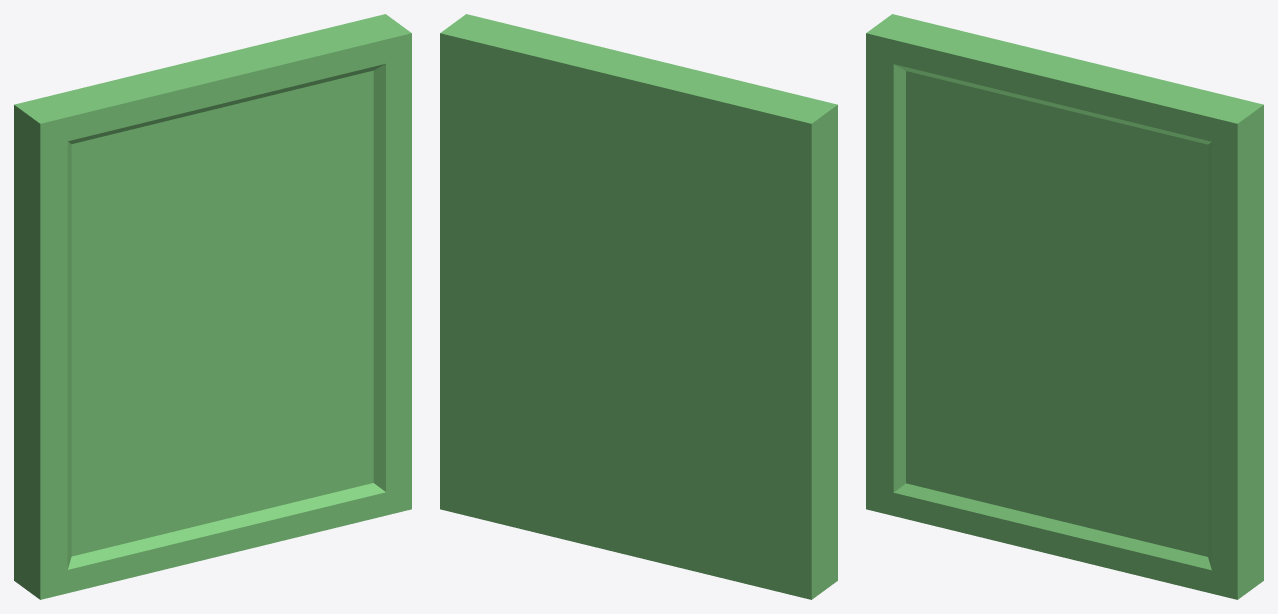
Rendered from Bld3_Deco_Slab.fbx.
3 views of the same model, side by side, from view 1: azimuth 30°, elevation 25°; view 2: azimuth 150°, elevation 25°; view 3: azimuth 330°, elevation 25° (orthographic).
Visible parts, largest first — view 1: Bld3_Deco_Slab; view 2: Bld3_Deco_Slab; view 3: Bld3_Deco_Slab.
Part boxes in pixels (bbox=[...]): Bld3_Deco_Slab: bbox=[14, 14, 411, 599]; Bld3_Deco_Slab: bbox=[440, 14, 837, 599]; Bld3_Deco_Slab: bbox=[866, 14, 1263, 599].
Bounding box in the file's own units: 368 × 450 × 44.96.
